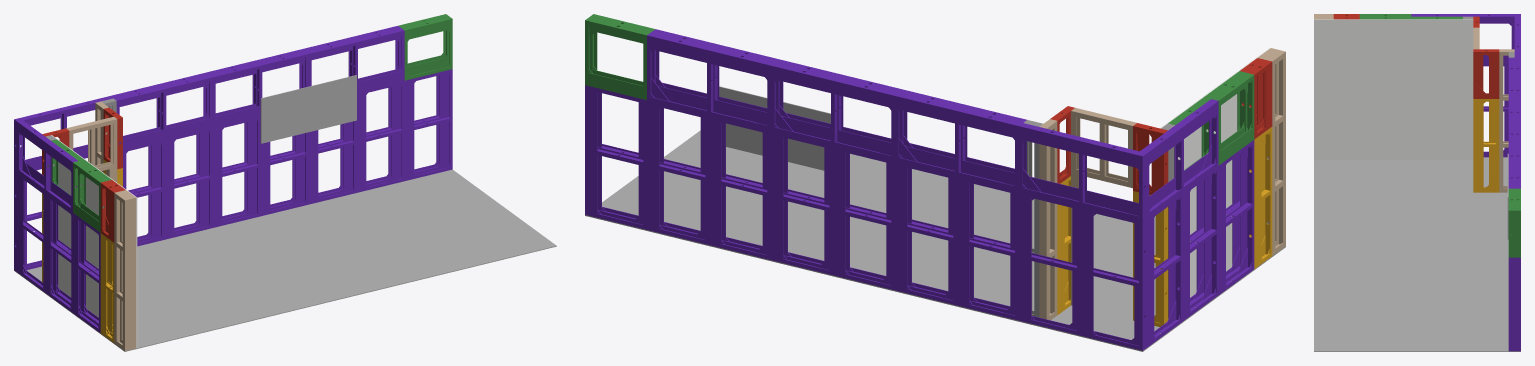
The picture shows the model from 3 angles, left to right: view 1: azimuth 30°, elevation 25°; view 2: azimuth 150°, elevation 25°; view 3: azimuth 270°, elevation 25°; orthographic projection. The views are drawn at different scales.
Visible parts, largest first — view 1: Пол 9000х4000х16, Body17 (×12), Body18 (×11), Закладная телевизора, Лист ЛДСП 2, Боковина 2 2000 мм (×2), Лист ЛДСП 1, Body22, Лист ЛДСП 4, Body20; view 2: Body18 (×26), Пол 9000х4000х16, Body17 (×15), Body22 (×7), Закладная телевизора, Body19, Body23, Лист ЛДСП 4, Боковина 1 2000 мм, Стойка 1, Лист ЛДСП 3, Лист ЛДСП 1 (+4 smaller); view 3: Пол 9000х4000х16, Лист ЛДСП 2, Лист ЛДСП 1, Лист ЛДСП 4, Body16 (×10), Лист ЛДСП 3, Body22, Body23 (×3), Body13 (×2), Body1, Задник вертикаль 2 2000 мм, Body11 (+6 smaller).
Part boxes in pixels (x1=…): Пол 9000х4000х16: x1=14, y1=169, x2=556, y2=351; Body17 (×12): x1=17, y1=71, x2=414, y2=313; Body18 (×11): x1=19, y1=29, x2=449, y2=234; Закладная телевизора: x1=260, y1=75, x2=356, y2=143; Лист ЛДСП 2: x1=86, y1=225, x2=137, y2=348; Боковина 2 2000 мм (×2): x1=125, y1=248, x2=135, y2=350; Лист ЛДСП 1: x1=58, y1=205, x2=71, y2=297; Body22: x1=100, y1=236, x2=106, y2=334; Лист ЛДСП 4: x1=84, y1=159, x2=137, y2=247; Body20: x1=407, y1=19, x2=449, y2=39; Body18 (×26): x1=585, y1=36, x2=1247, y2=334; Пол 9000х4000х16: x1=585, y1=130, x2=1285, y2=351; Body17 (×15): x1=638, y1=86, x2=1225, y2=343; Body22 (×7): x1=650, y1=97, x2=1261, y2=346; Закладная телевизора: x1=719, y1=86, x2=830, y2=170; Body19: x1=588, y1=73, x2=643, y2=98; Body23: x1=1057, y1=184, x2=1064, y2=311; Лист ЛДСП 4: x1=1203, y1=48, x2=1270, y2=142; Боковина 1 2000 мм: x1=1040, y1=200, x2=1045, y2=318; Стойка 1: x1=1034, y1=198, x2=1039, y2=315; Лист ЛДСП 3: x1=1160, y1=97, x2=1203, y2=169; Лист ЛДСП 1: x1=1190, y1=186, x2=1196, y2=297; Пол 9000х4000х16: x1=1314, y1=157, x2=1520, y2=351; Лист ЛДСП 2: x1=1314, y1=66, x2=1411, y2=160; Лист ЛДСП 1: x1=1411, y1=66, x2=1473, y2=160; Лист ЛДСП 4: x1=1314, y1=19, x2=1411, y2=66; Body16 (×10): x1=1411, y1=14, x2=1520, y2=351; Лист ЛДСП 3: x1=1411, y1=19, x2=1473, y2=66; Body22: x1=1473, y1=101, x2=1483, y2=189; Body23 (×3): x1=1414, y1=16, x2=1515, y2=347; Body13 (×2): x1=1509, y1=211, x2=1520, y2=256; Body1: x1=1489, y1=51, x2=1499, y2=98; Задник вертикаль 2 2000 мм: x1=1499, y1=99, x2=1503, y2=192; Body11: x1=1496, y1=101, x2=1499, y2=189.
Size of the model in its own units: 9 by 3.02 by 4.
